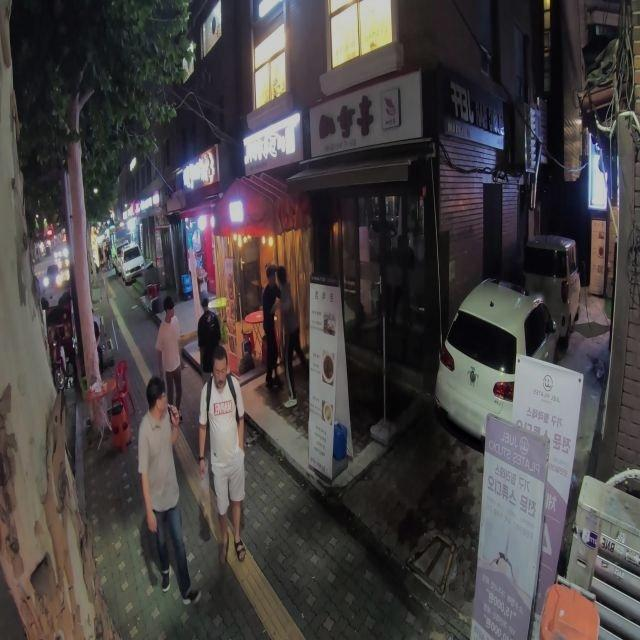fight: (260, 266, 305, 407)
non-fight: (136, 374, 200, 610), (195, 346, 250, 563)
